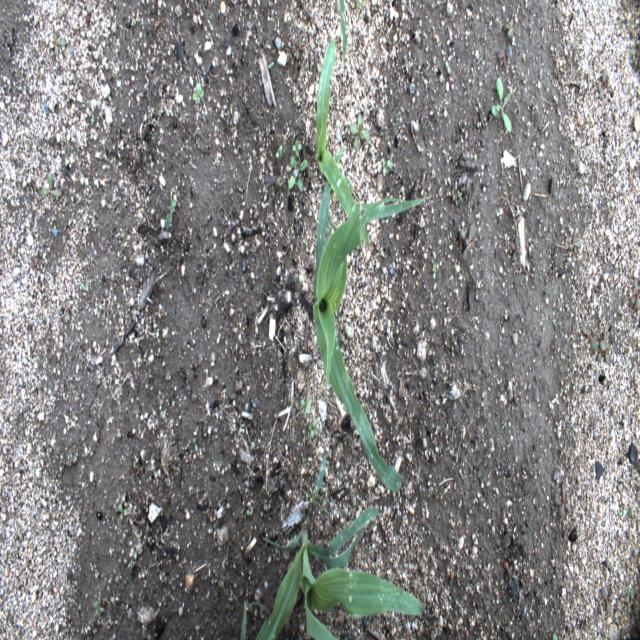crop: (314, 181, 428, 497), (255, 454, 424, 639), (315, 31, 357, 226), (337, 0, 349, 57)
weed: (492, 69, 514, 143), (583, 325, 614, 367), (345, 112, 373, 152), (45, 28, 70, 70), (455, 220, 478, 262), (286, 156, 310, 195), (41, 160, 63, 200), (187, 78, 213, 109), (600, 578, 618, 621), (287, 30, 304, 70), (270, 162, 285, 202), (381, 137, 394, 183), (594, 64, 610, 100), (452, 179, 472, 207), (166, 197, 182, 230), (88, 585, 103, 619), (504, 16, 518, 44), (302, 415, 319, 437), (630, 272, 638, 312), (117, 498, 129, 524), (28, 254, 41, 278), (290, 134, 308, 149), (443, 53, 453, 78), (298, 399, 312, 416)
